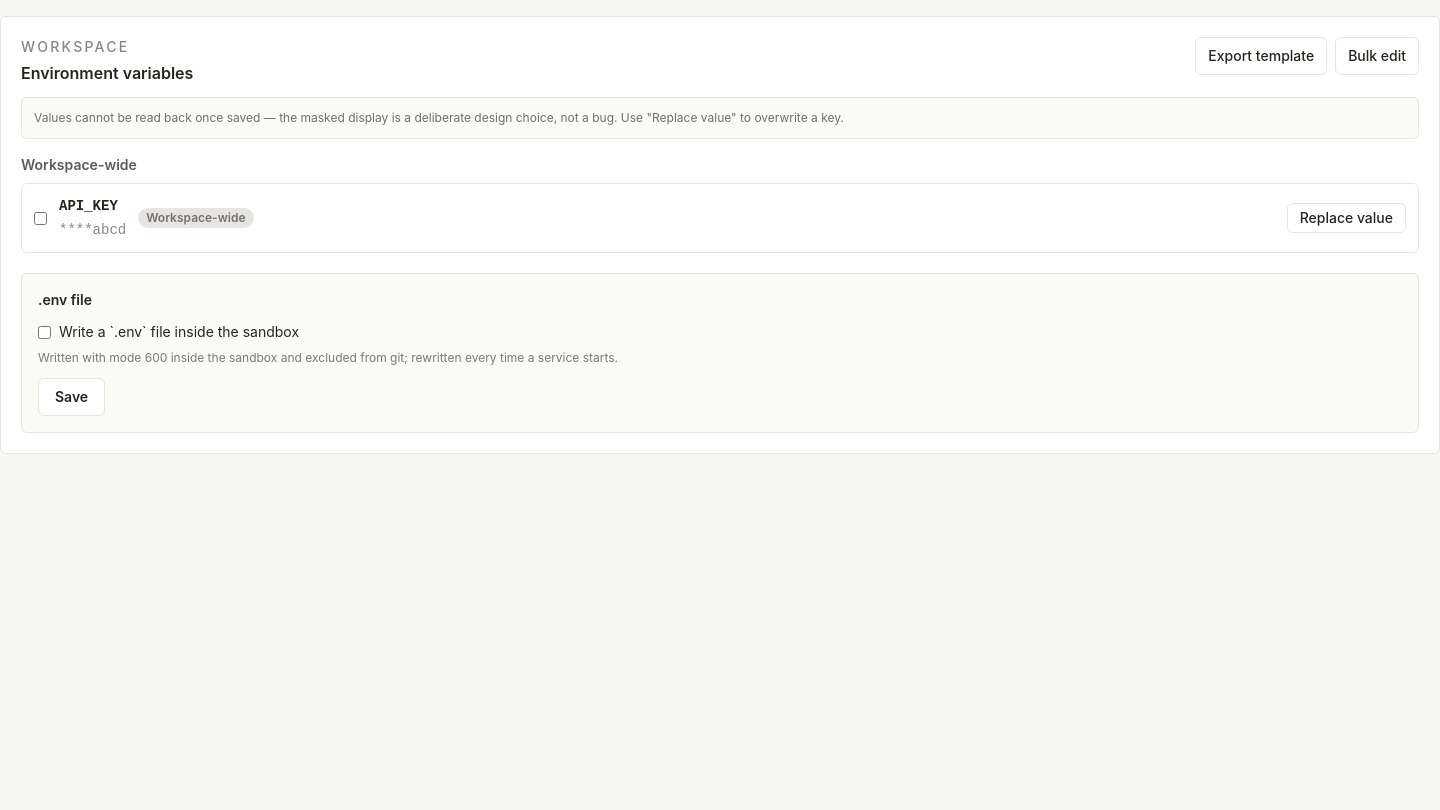
EnvVarEditor › offers a template-suggestion chip per service command and inserts it into the bulk text on click
This screenshot has width=1440, height=810.
Click the button "Bulk edit" at coordinates (1377, 56), box [1335,37,1419,75]
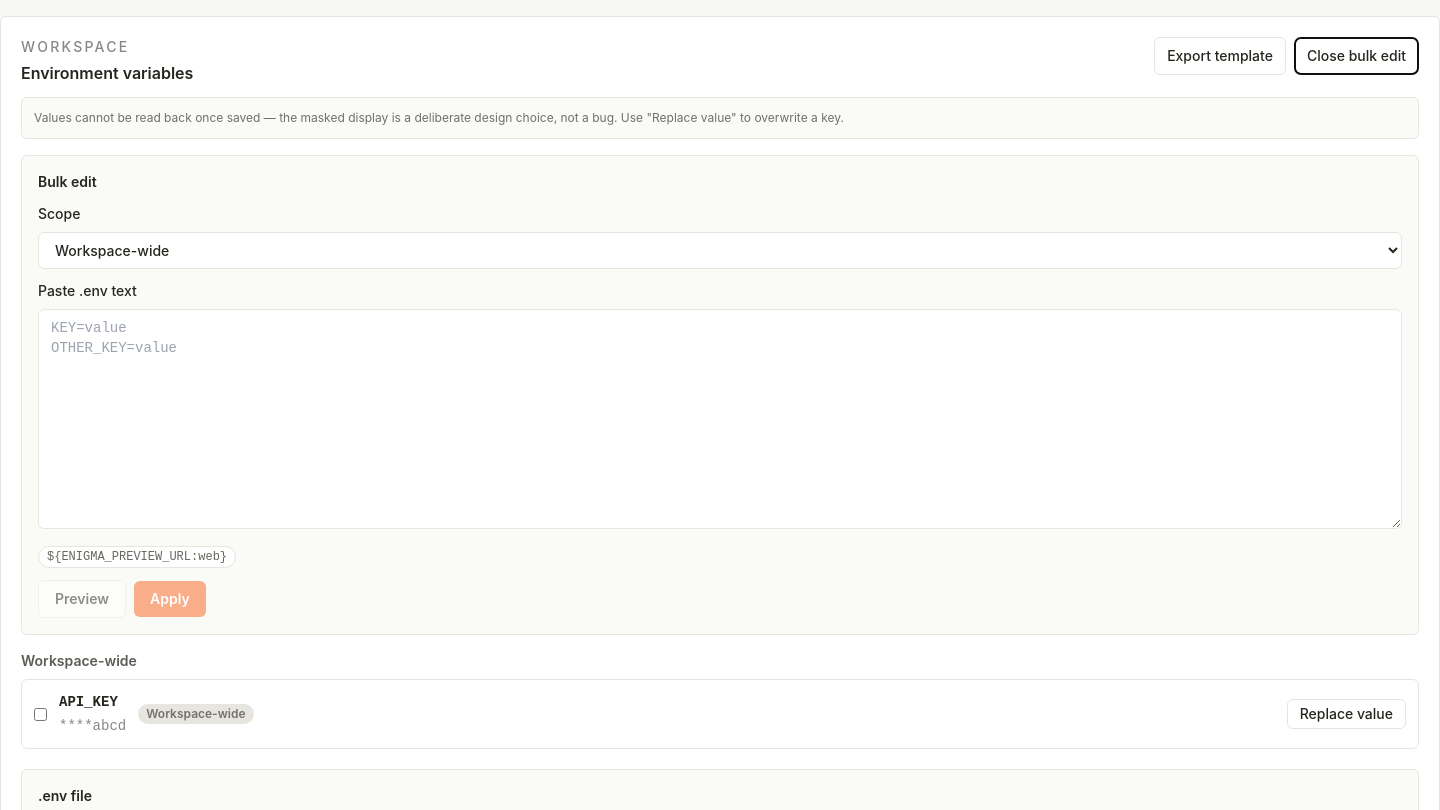
Click the button "${ENIGMA_PREVIEW_URL:web}" at coordinates (137, 557), box [38,546,236,568]
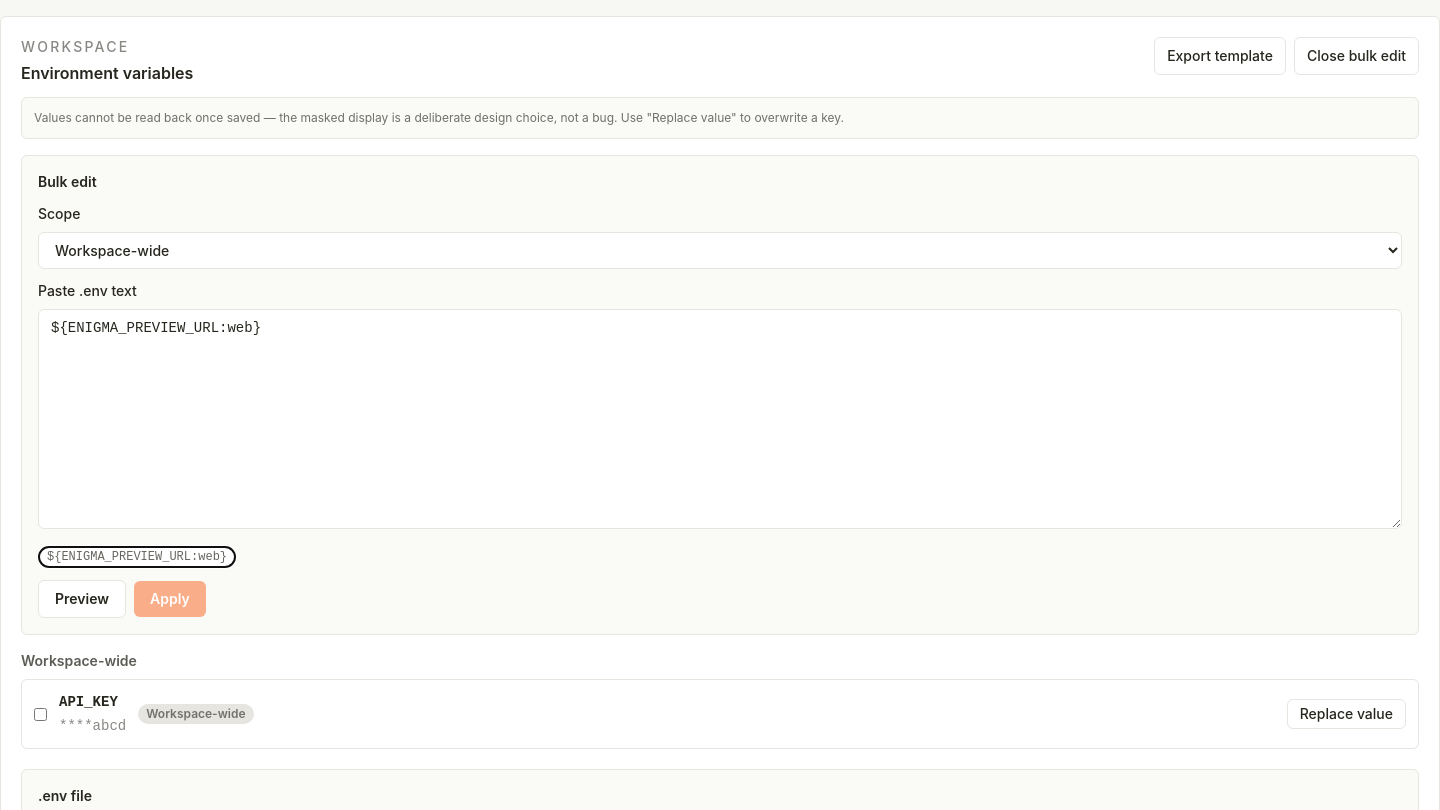
Now the text box labelled "Paste .env text" holds "${ENIGMA_PREVIEW_URL:web}", box [38,309,1402,529]
